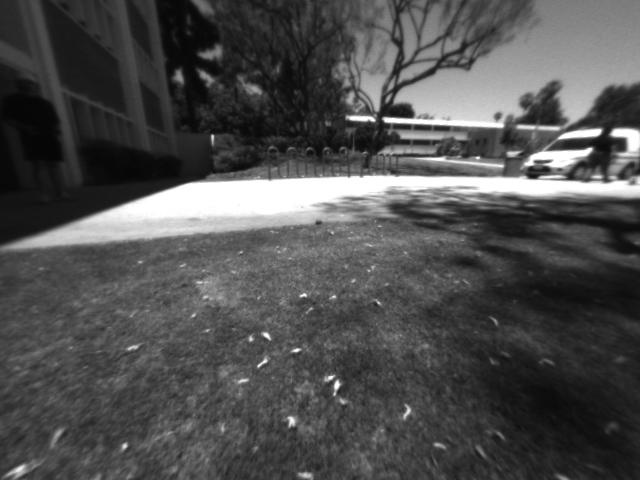dogtoy: (308, 211, 329, 230)
